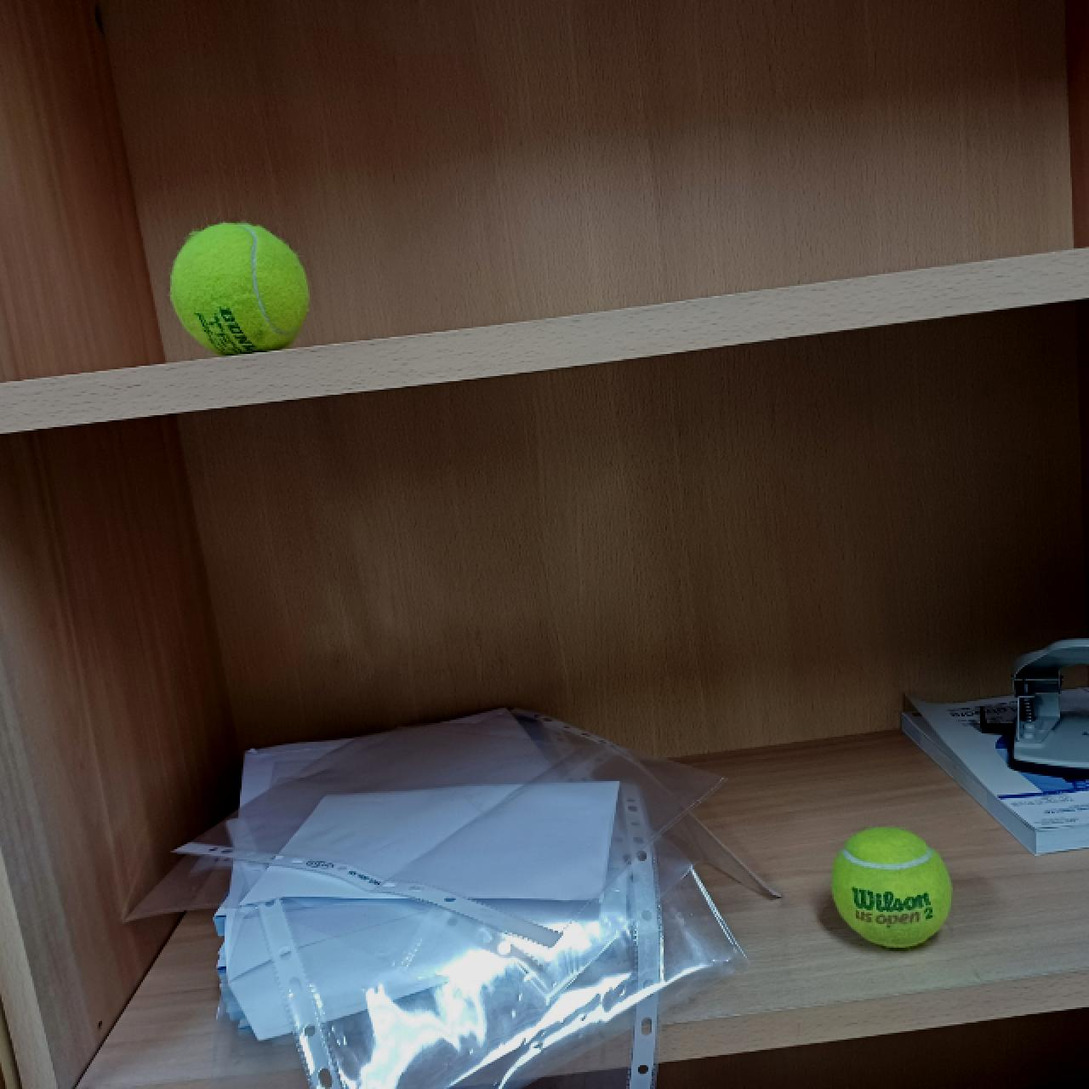tennis-ball: (168, 220, 312, 356), (829, 828, 953, 950)
